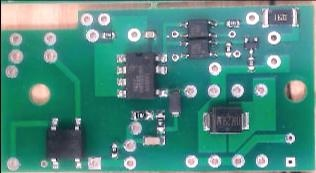chip-capacitor: (140, 135, 165, 147), (141, 29, 157, 40)
chip-resistor: (260, 6, 300, 28), (128, 108, 153, 121), (154, 108, 165, 135), (223, 18, 241, 28), (109, 140, 118, 160), (245, 55, 255, 72), (224, 40, 233, 58), (100, 30, 116, 39)
diode: (200, 105, 249, 135), (167, 87, 181, 118)
ic: (114, 51, 169, 100), (45, 115, 84, 169), (177, 18, 218, 39), (178, 39, 218, 59)
transistor: (241, 34, 258, 54)
